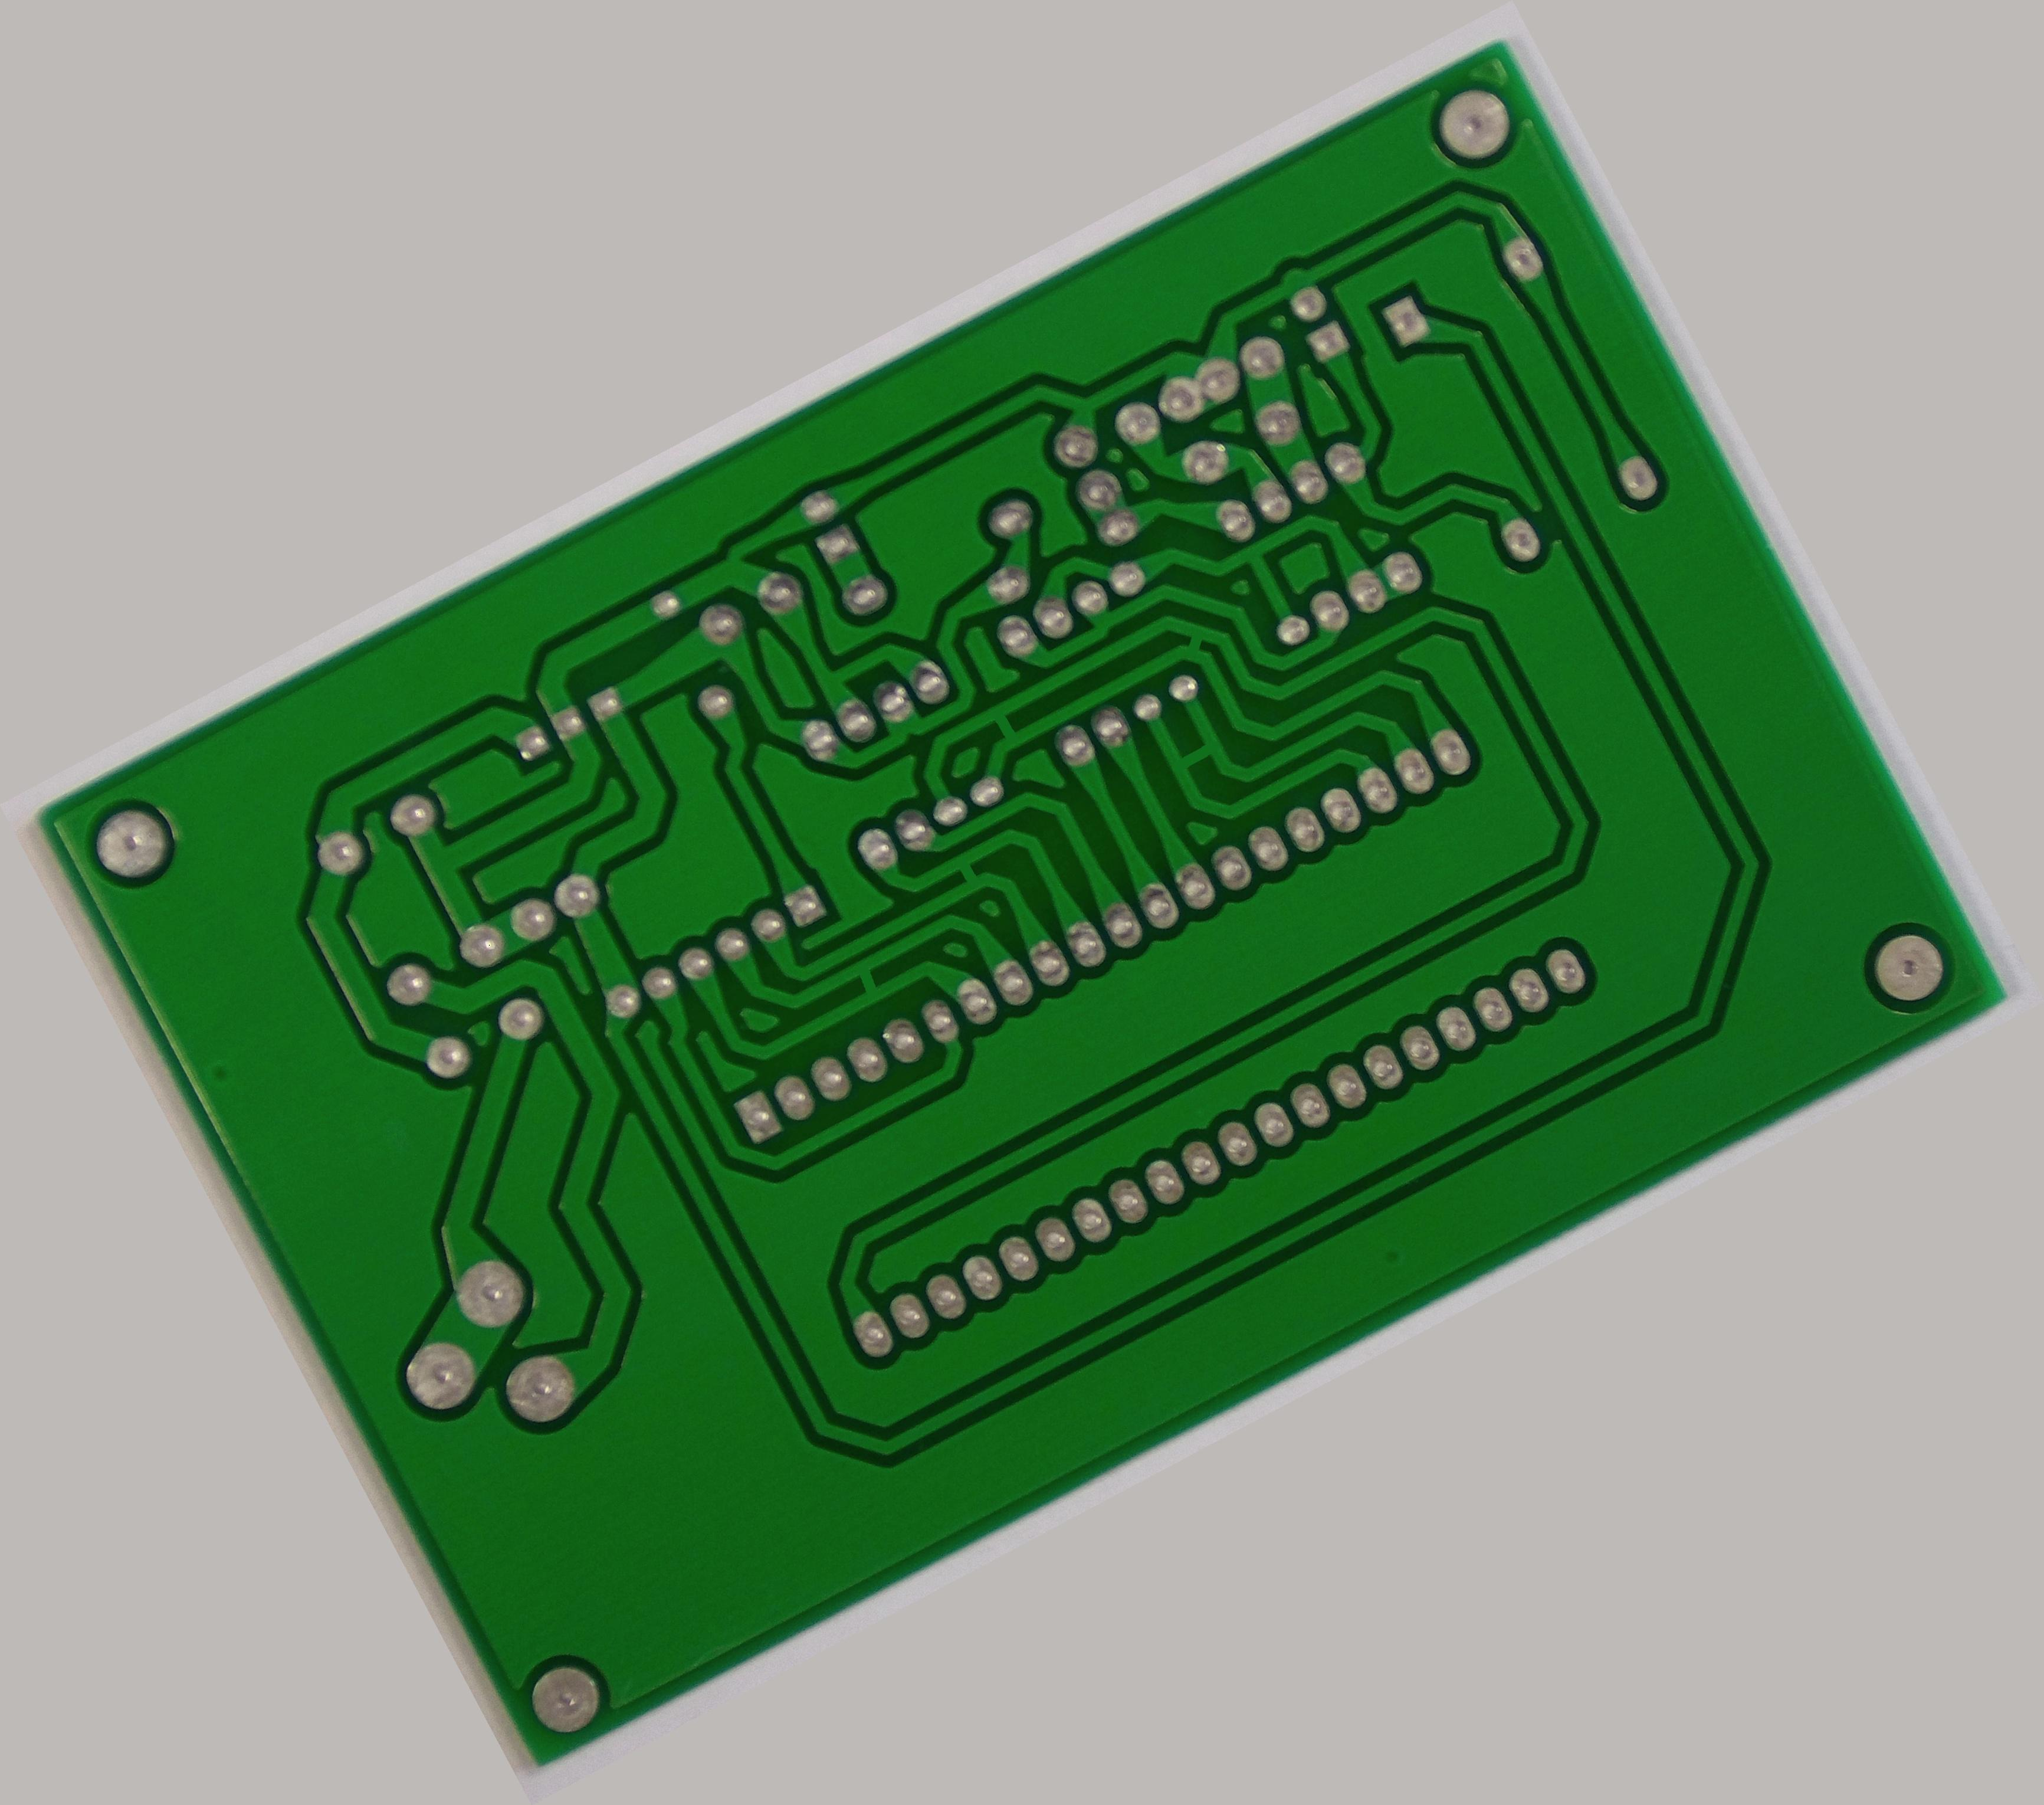short: (1156, 720, 1243, 798), (966, 683, 1046, 763), (928, 833, 1010, 911), (827, 941, 907, 1017), (1163, 615, 1227, 676)
